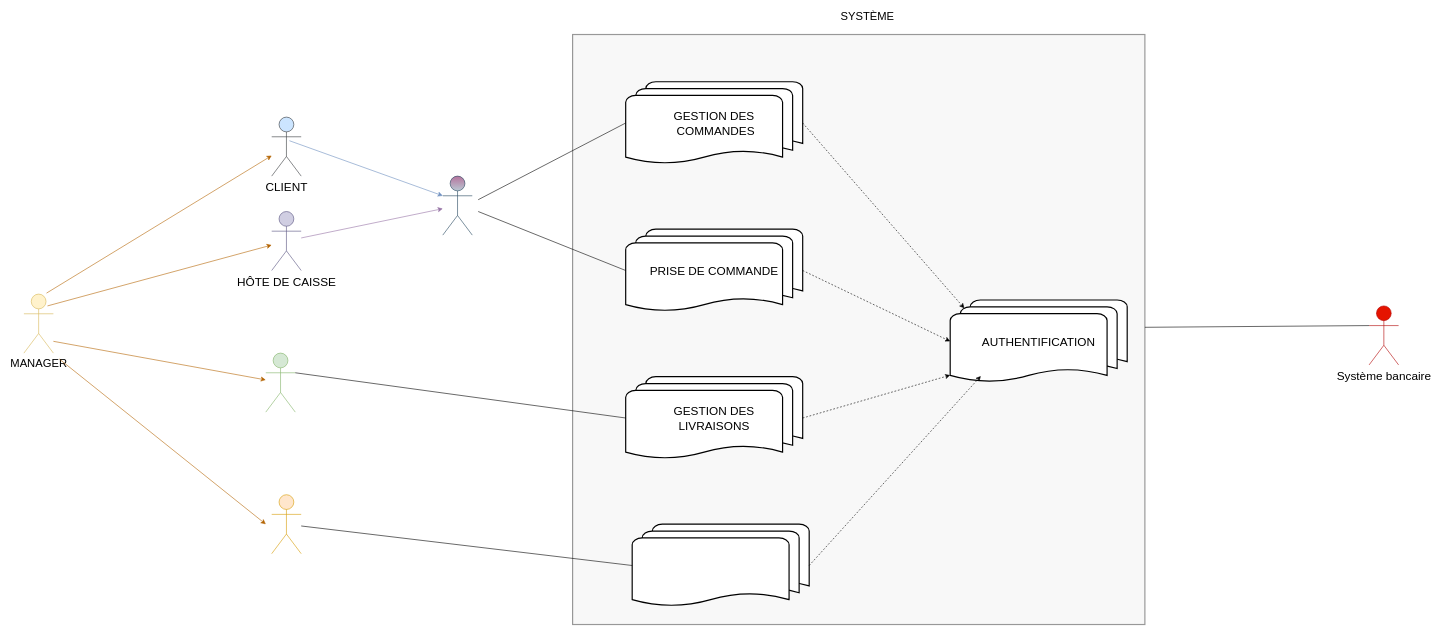
This 1441x635 diagram has some shape labels left out. Here are the shapes that lost their labels. From the top down, the centre of each, then its label:
At [457,205]: "Utilisateur Prise/Gestion de commande".
At [280,382]: "LIVREUR".
At [286,524]: "PIZZAIOLO".
At [720,565]: "GESTION DES STOCKS".
